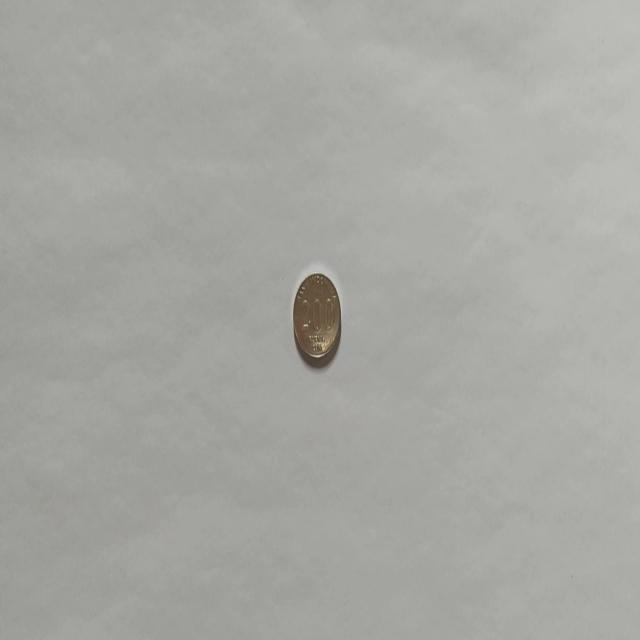dua ratus rupiah: (292, 270, 342, 364)
